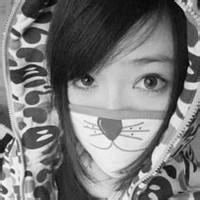OK: (66, 57, 176, 169)
